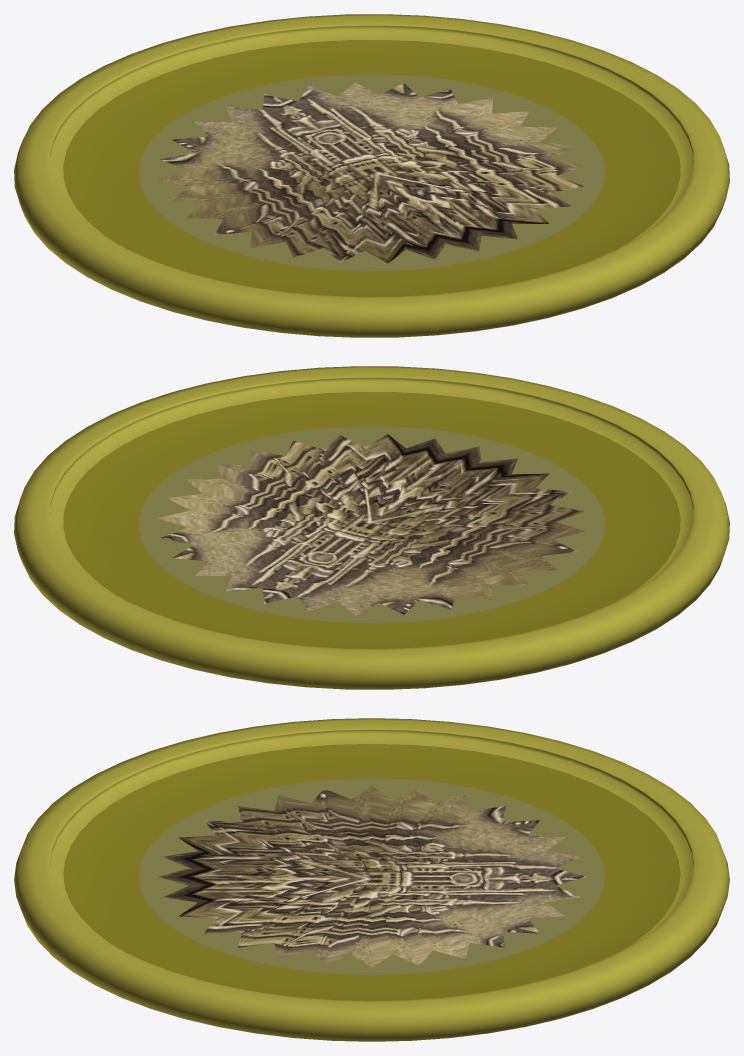
Rendered from moneda.fbx.
3 views of the same model, one above another, from view 1: azimuth 30°, elevation 25°; view 2: azimuth 150°, elevation 25°; view 3: azimuth 270°, elevation 25° (orthographic).
Parts seen in each view (by area): view 1: pCylinder1; view 2: pCylinder1; view 3: pCylinder1.
Part boxes in pixels (bbox=[...]): pCylinder1: bbox=[14, 14, 729, 337]; pCylinder1: bbox=[14, 366, 729, 689]; pCylinder1: bbox=[14, 718, 729, 1041].
Bounding box in the file's own units: 0.1888 × 0.00931 × 0.1888.
